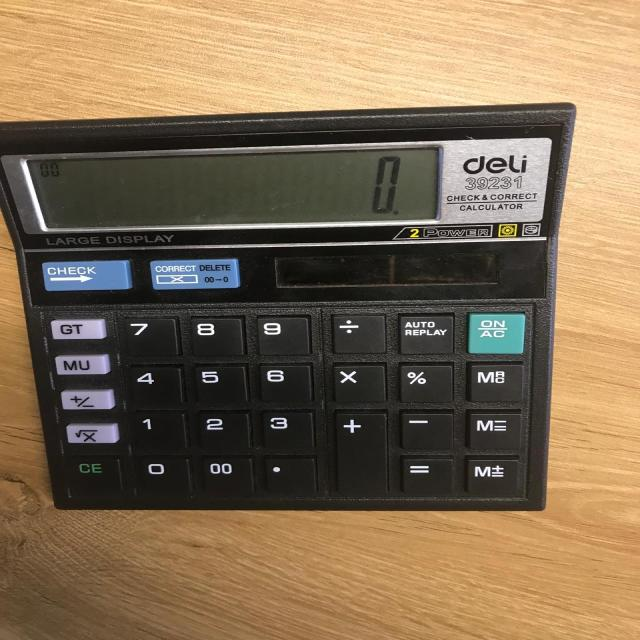calculator: (1, 100, 578, 512)
